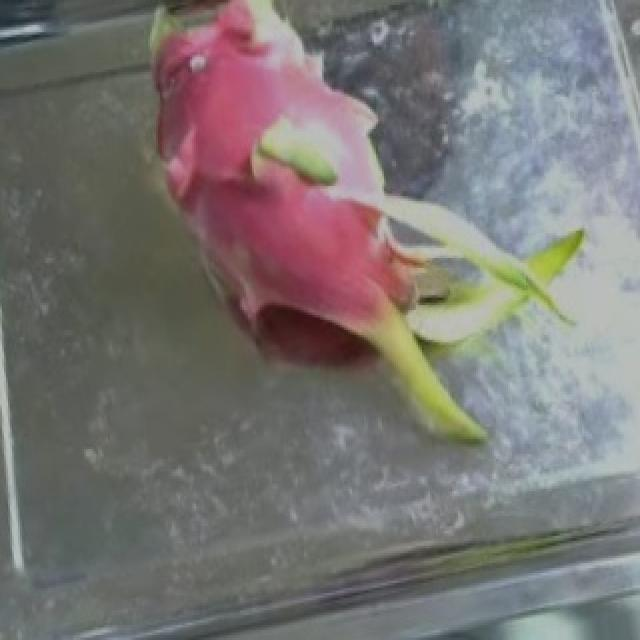fruit: (168, 34, 606, 493)
